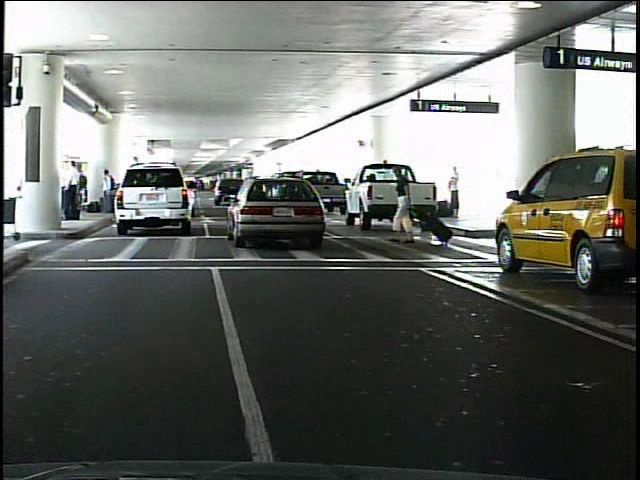person: (395, 163, 420, 247), (70, 160, 85, 222), (106, 166, 121, 220), (451, 162, 464, 214)
